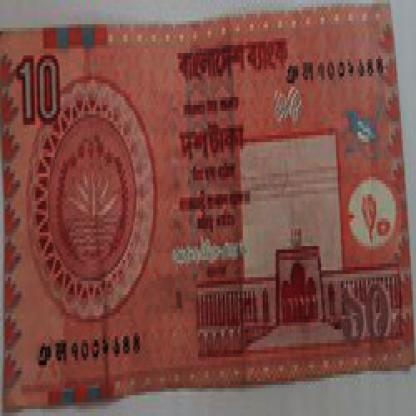Ten Taka: (13, 45, 82, 139), (334, 270, 400, 361)
